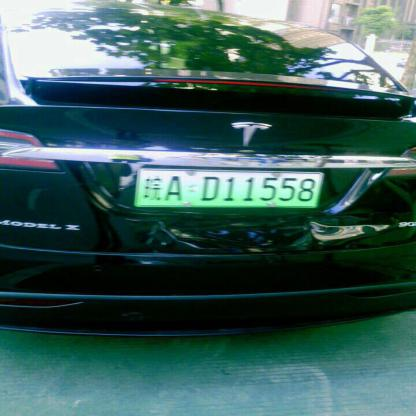lp: (137, 170, 322, 207)
